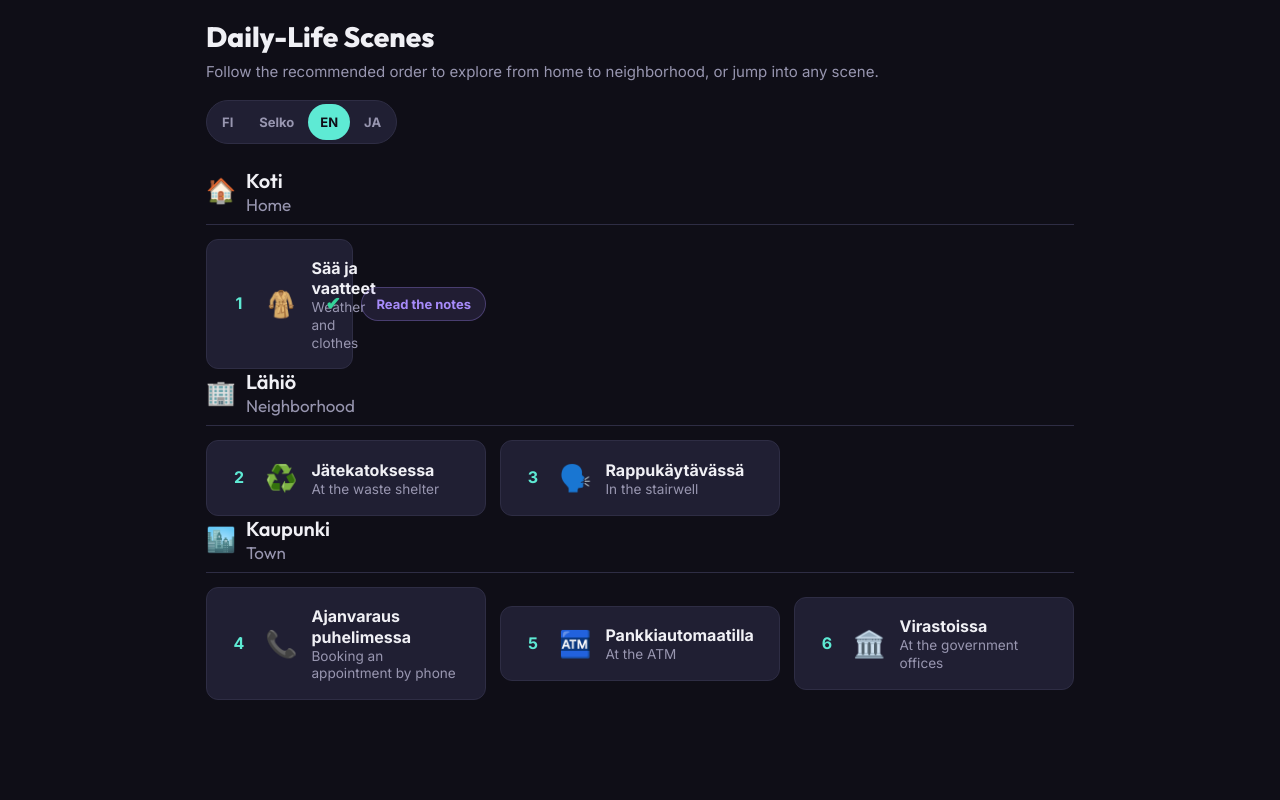
it: Scenes Page › does not show read-info button for unplayed games, shows it for played games, and opens/closes the info modal via button and Escape
// Click to open modal
Click the button "Read the notes" at (424, 304), box [362,287,486,321]
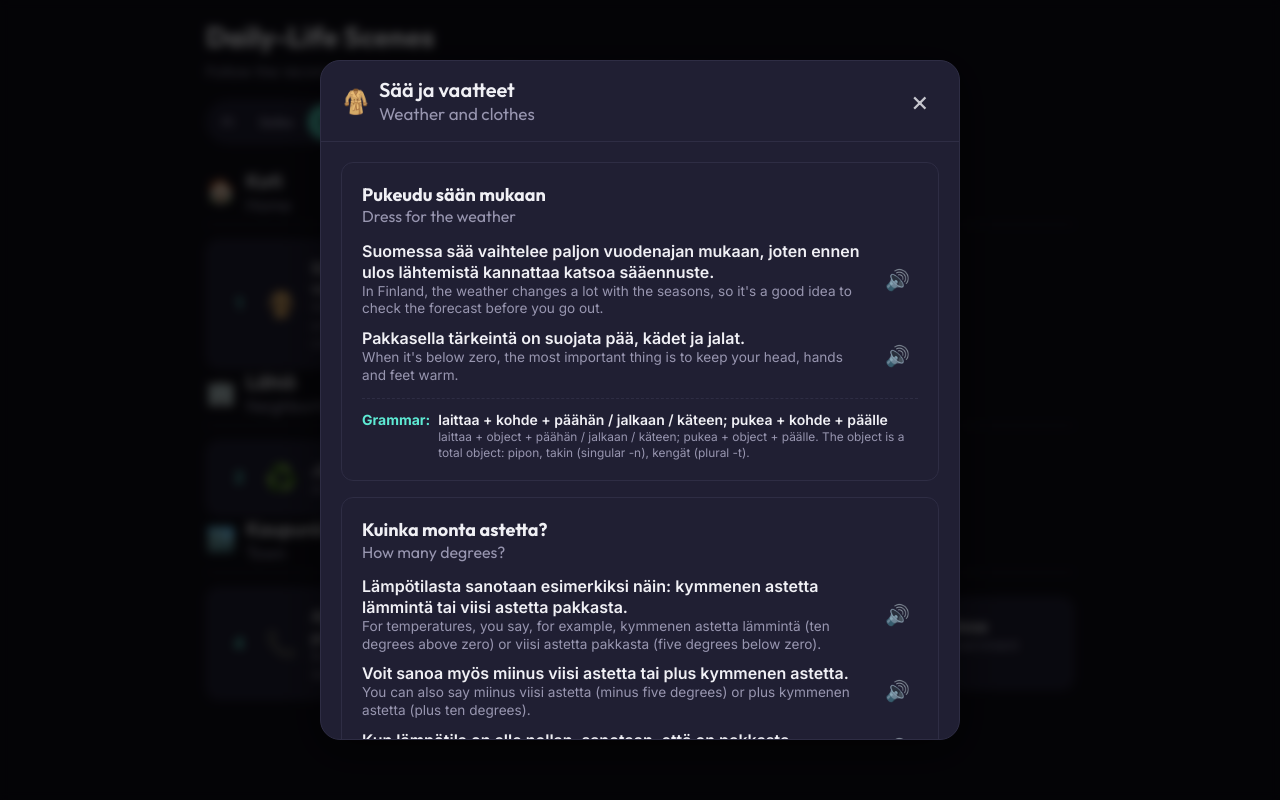
expect the dialog "Sää ja vaatteet" is shown: met, box [320,60,960,740]
expect the text "Pukeudu sään mukaan" is shown: met, box [362,183,546,206]
// Close via close button
Click the button "×" at (920, 101), box [900,84,939,118]
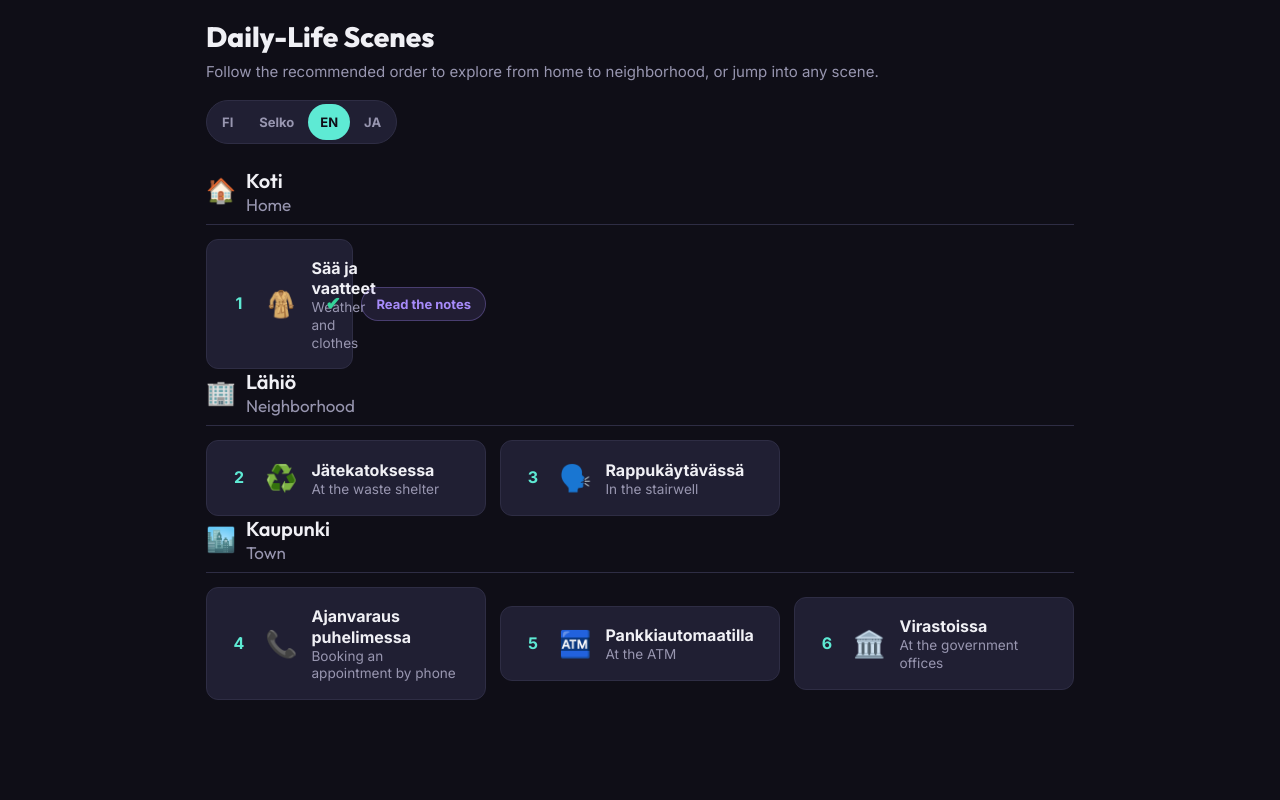
expect the dialog is gone: met
// Reopen and close via Escape key
Click the button "Read the notes" at (424, 304), box [362,287,486,321]
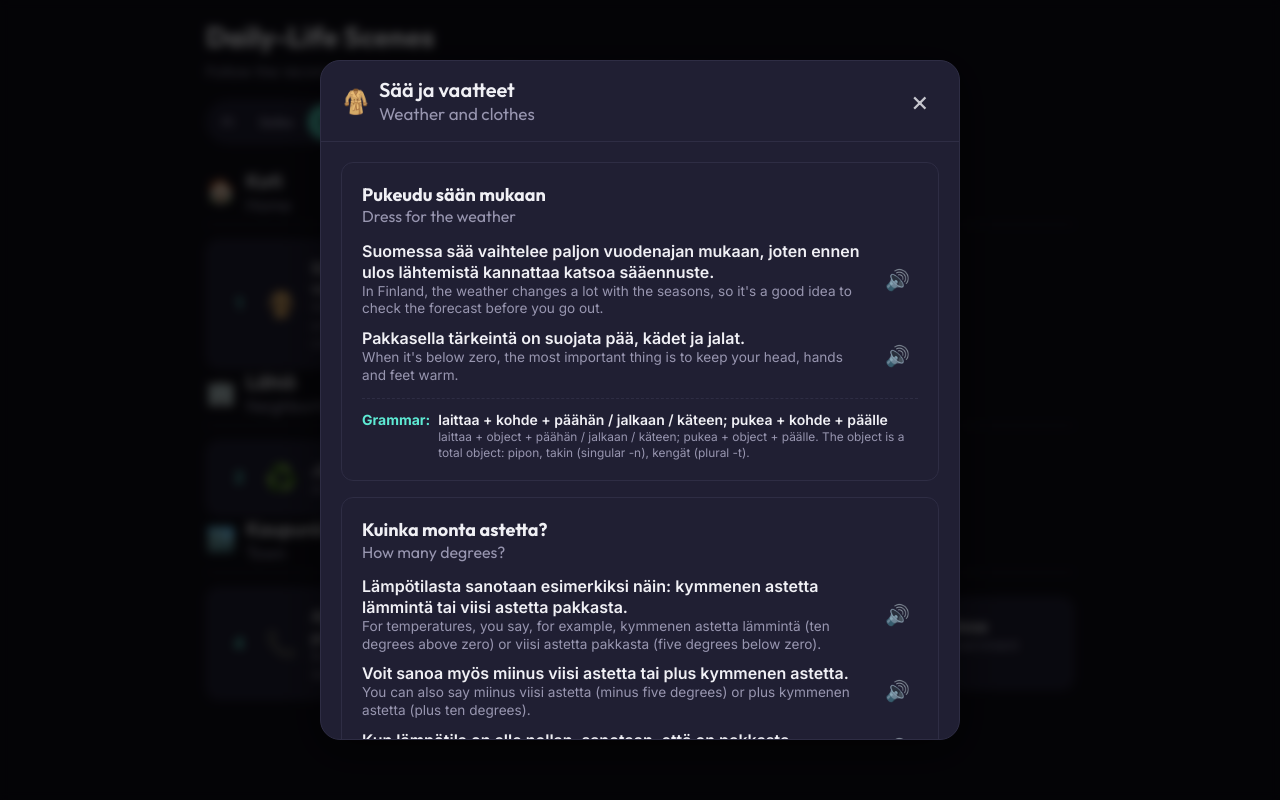
expect the dialog "Sää ja vaatteet" is shown: met, box [320,60,960,740]
Press Escape
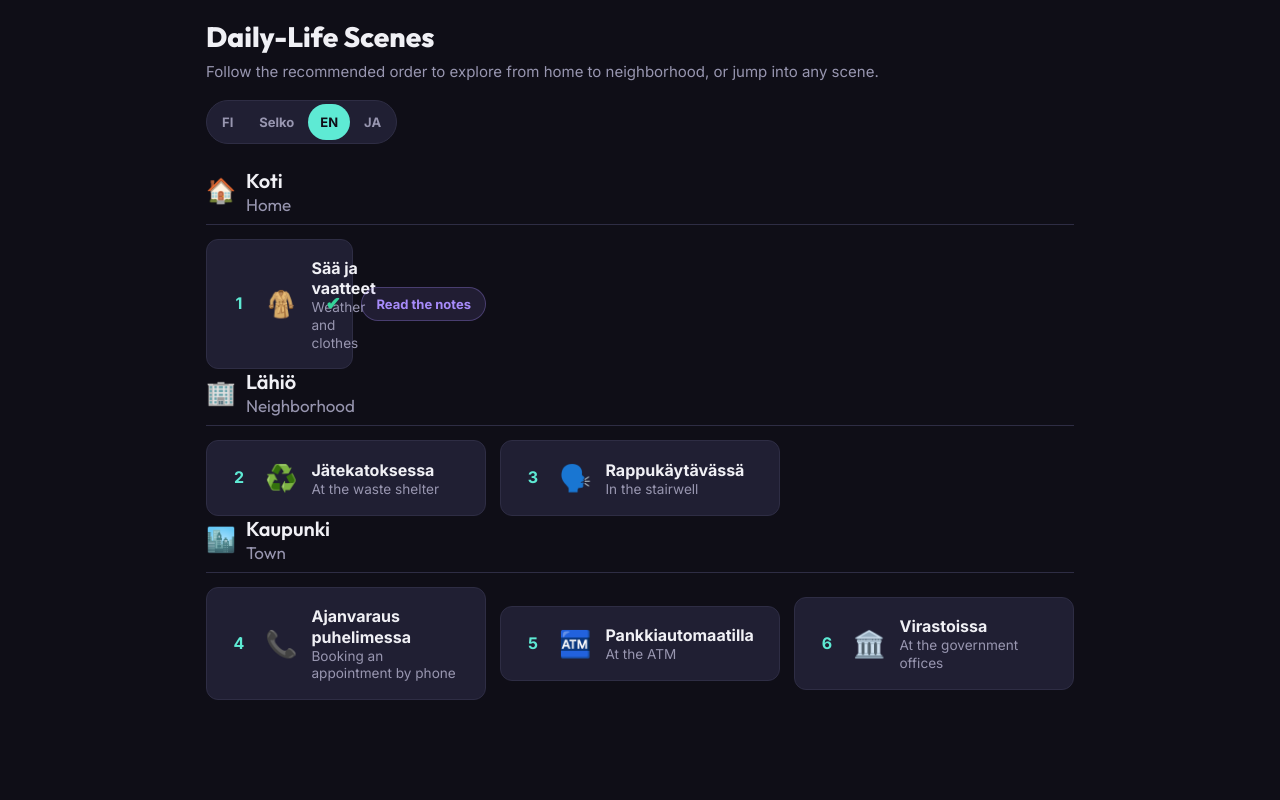
expect the dialog is gone: met
// Reopen and close via overlay click
Click the button "Read the notes" at (424, 304), box [362,287,486,321]
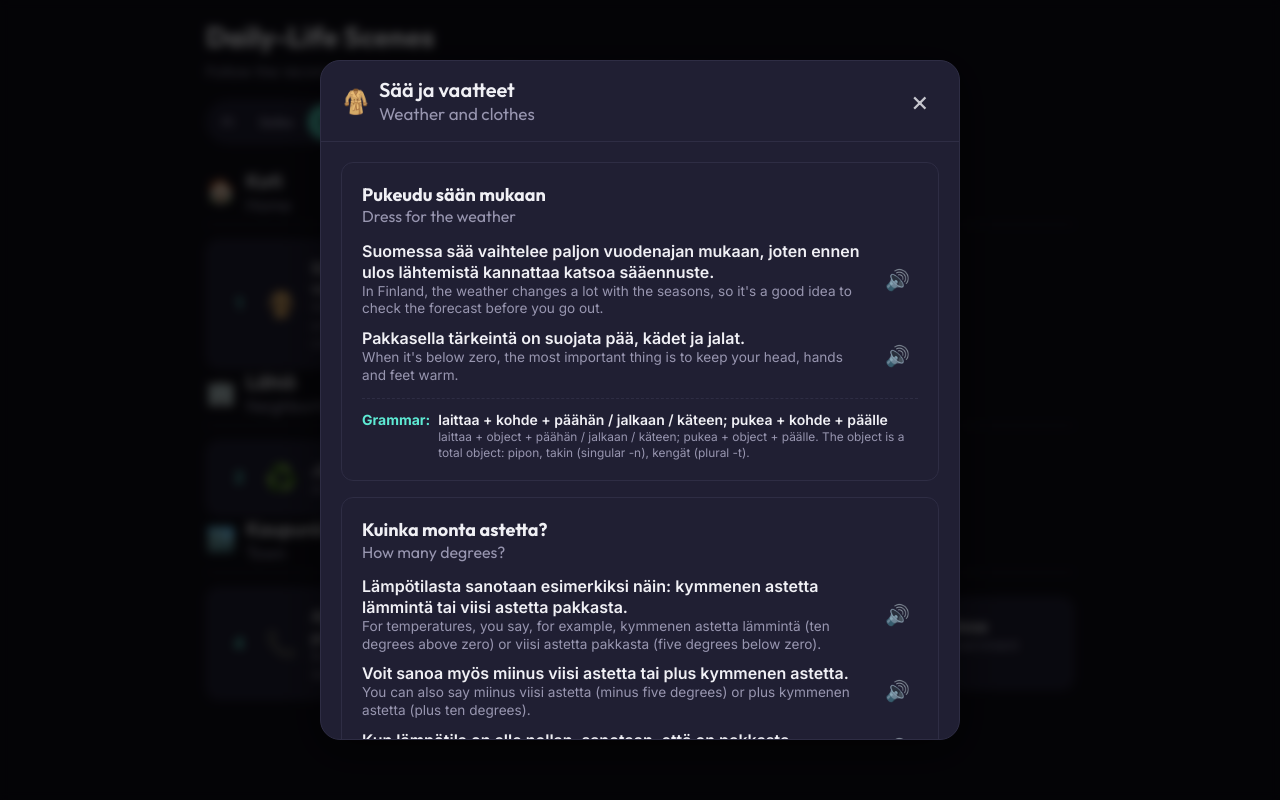
Click the element that starts with "Sää ja vaatteet" at (77, 400), box [0,0,1279,799]
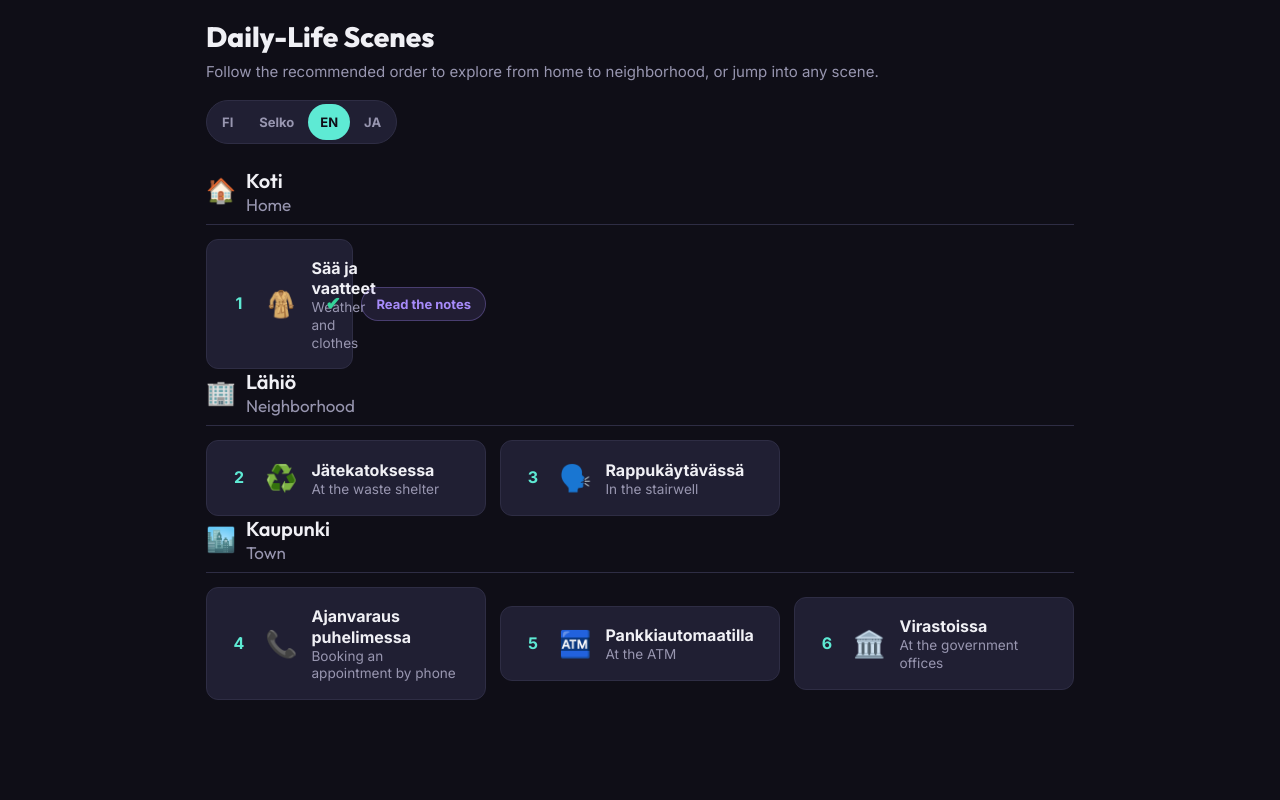
expect the dialog is gone: met
